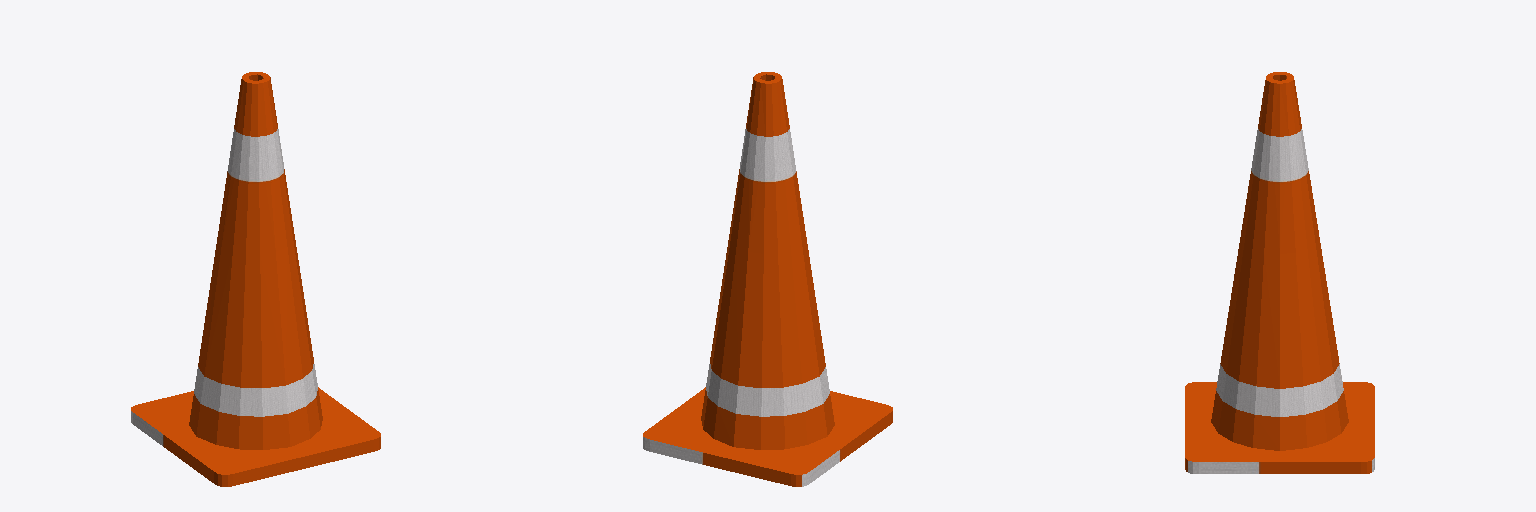
3 views of the same model, side by side, from view 1: azimuth 30°, elevation 25°; view 2: azimuth 150°, elevation 25°; view 3: azimuth 270°, elevation 25° (orthographic).
Parts seen in each view (by area): view 1: cone; view 2: cone; view 3: cone.
Boxes of the visible parts, x1=… form: cone: x1=131, y1=72, x2=380, y2=486; cone: x1=643, y1=72, x2=892, y2=486; cone: x1=1185, y1=72, x2=1374, y2=473.
Bounding box in the file's own units: 0.6717 × 1.39 × 0.6717.
1 materials, 1 textured.